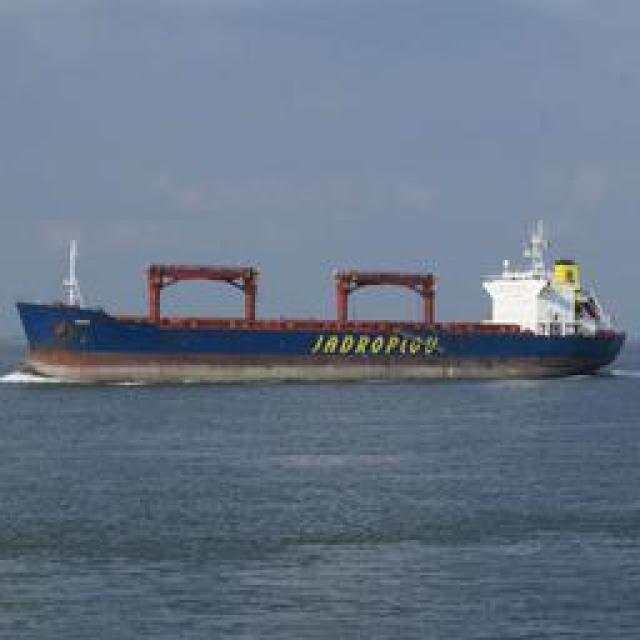ship2: (13, 214, 627, 382)
